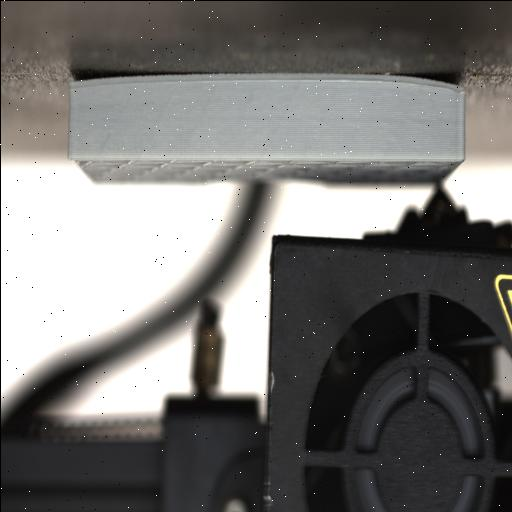warp: (63, 64, 113, 96), (434, 68, 476, 100)
